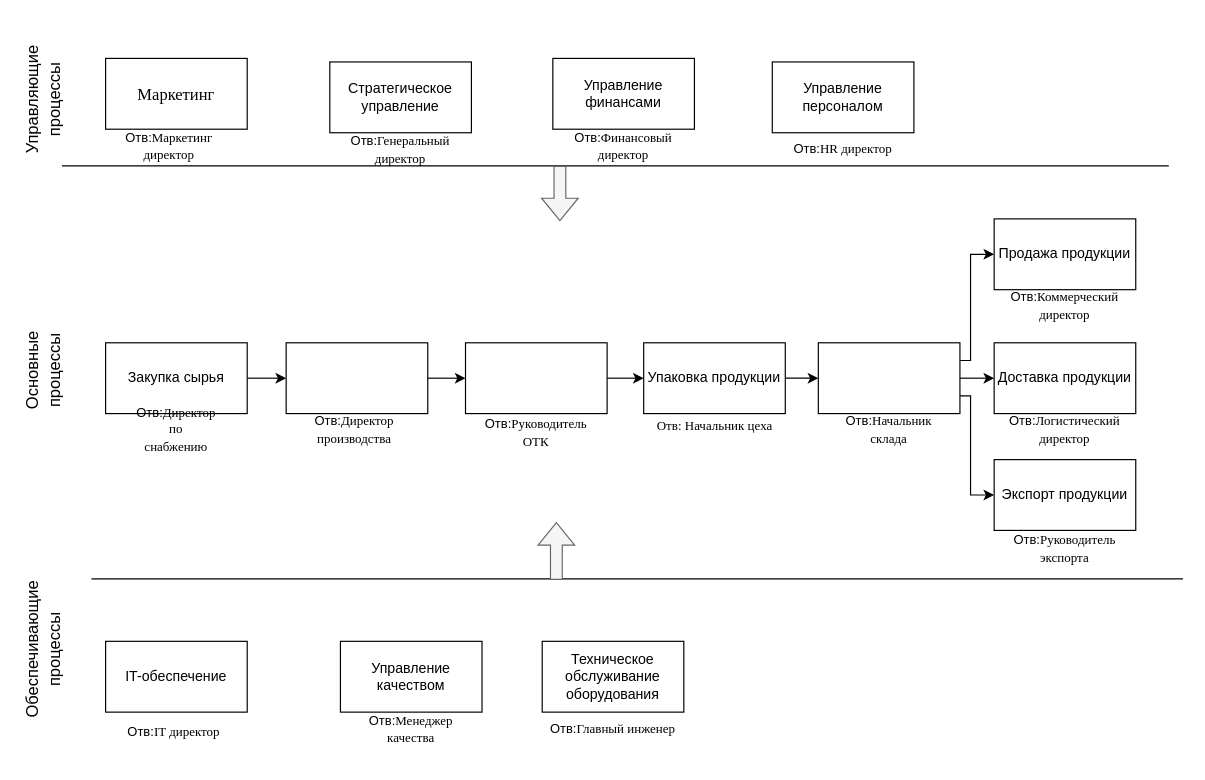
Some shapes in this 1205 by 780 pixel diagram are drawn without their labels. The centre of each missing label's shape, as x and y in pixels:
"Контроль качества" goes at (x=535, y=378).
"Производство кондитерской продукции" goes at (x=356, y=378).
"Хранение продукции" goes at (x=888, y=378).
